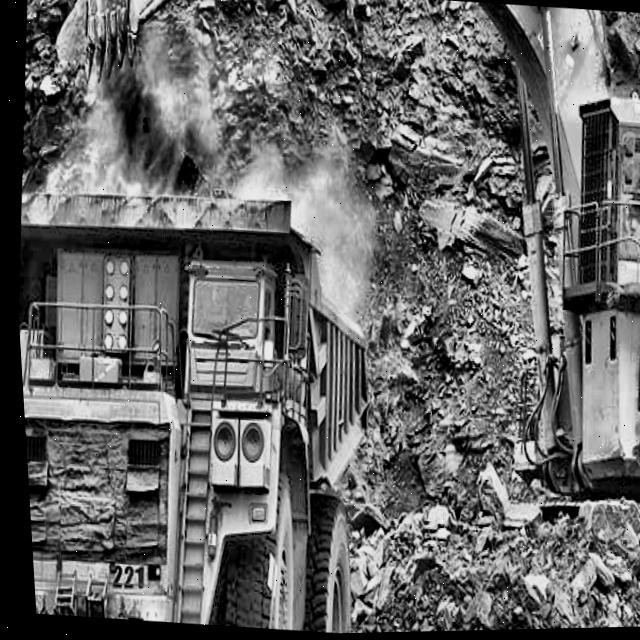dump_truck: (9, 185, 384, 640)
excavator: (80, 0, 640, 242)
